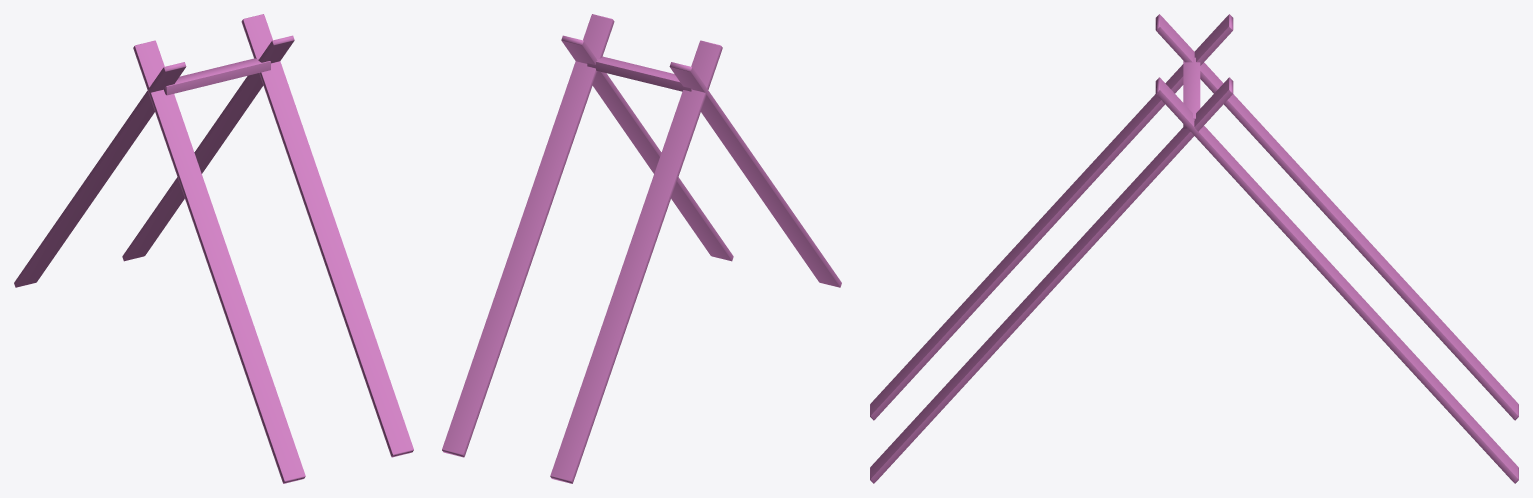
File: RoofBase3on1.fbx
3 renders of one model, left to right at view 1: azimuth 30°, elevation 25°; view 2: azimuth 150°, elevation 25°; view 3: azimuth 270°, elevation 25°, orthographic. The views are drawn at different scales.
Parts seen in each view (by area): view 1: Roof001; view 2: Roof001; view 3: Roof001.
Part boxes in pixels (x1=…): Roof001: x1=14, y1=14, x2=413, y2=483; Roof001: x1=442, y1=14, x2=841, y2=483; Roof001: x1=870, y1=14, x2=1518, y2=483.
Size of the model in its own units: 39.66 by 96.45 by 144.
